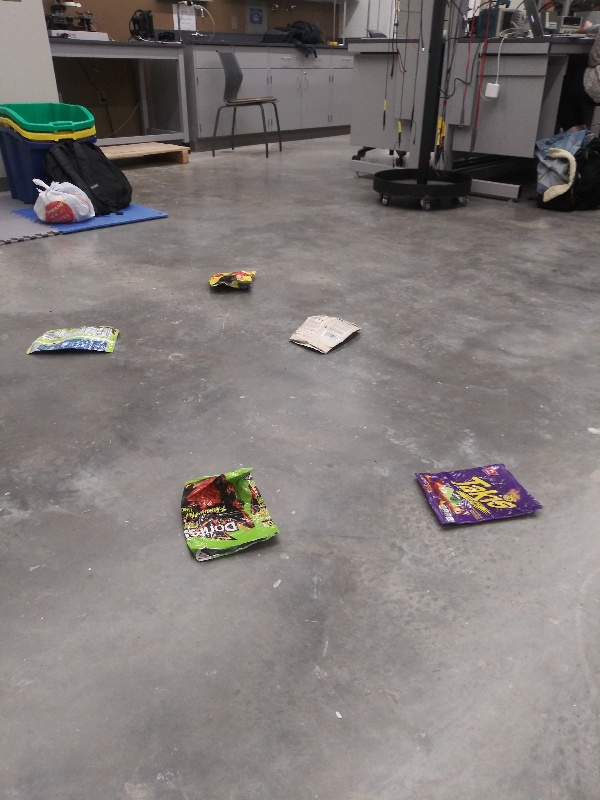bag: (179, 463, 289, 569), (411, 459, 546, 536), (21, 319, 124, 360), (282, 312, 365, 358), (203, 265, 264, 297)
